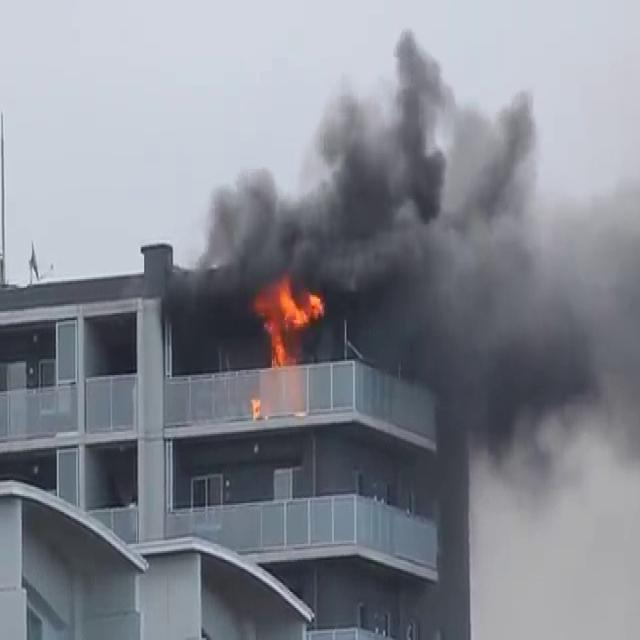Fire: (248, 271, 326, 365)
Smoke: (228, 26, 640, 429)
